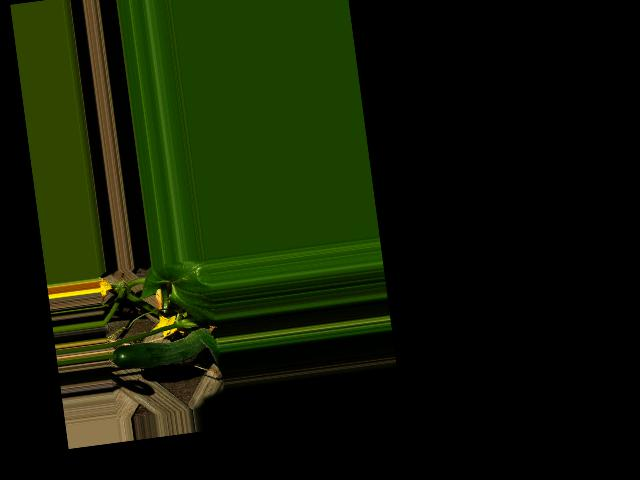cucumber: (111, 326, 220, 372)
